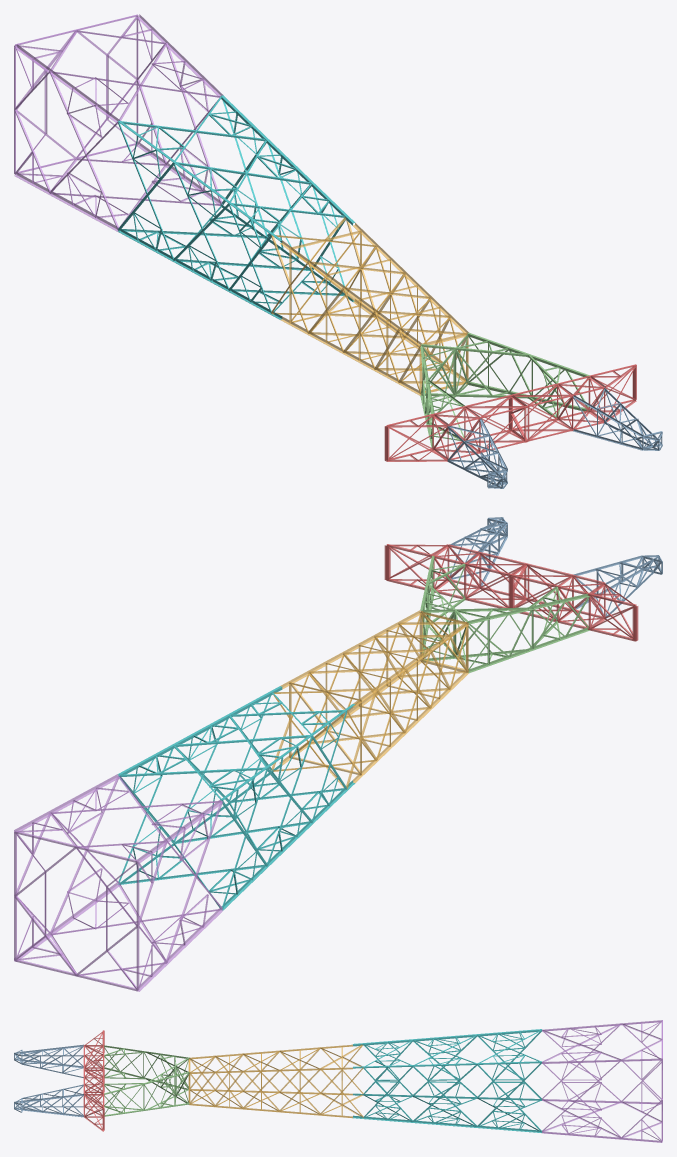
The model's file is tower-assembly-1-6-s1602.glb.
3 views of the same model, one above another, from view 1: azimuth 30°, elevation 25°; view 2: azimuth 150°, elevation 25°; view 3: azimuth 270°, elevation 25° (orthographic). The views are drawn at different scales.
Parts seen in each view (by area): view 1: M5-塔身5（112件原样 + 4件+500诊断头伸）, M6-塔身6（候选增量）, M4-塔身4（双场景审阅代理·S1短尾修正）, M2-塔头2（已撤销诊断占位）, M3-塔头3, M1-塔头1; view 2: M6-塔身6（候选增量）, M5-塔身5（112件原样 + 4件+500诊断头伸）, M4-塔身4（双场景审阅代理·S1短尾修正）, M2-塔头2（已撤销诊断占位）, M3-塔头3, M1-塔头1; view 3: M5-塔身5（112件原样 + 4件+500诊断头伸）, M6-塔身6（候选增量）, M4-塔身4（双场景审阅代理·S1短尾修正）, M3-塔头3, M1-塔头1, M2-塔头2（已撤销诊断占位）.
Part boxes in pixels (x1=…): M5-塔身5（112件原样 + 4件+500诊断头伸）: x1=118, y1=95, x2=355, y2=319; M6-塔身6（候选增量）: x1=14, y1=14, x2=223, y2=231; M4-塔身4（双场景审阅代理·S1短尾修正）: x1=271, y1=217, x2=468, y2=395; M2-塔头2（已撤销诊断占位）: x1=384, y1=364, x2=636, y2=461; M3-塔头3: x1=420, y1=332, x2=589, y2=447; M1-塔头1: x1=447, y1=387, x2=662, y2=488; M6-塔身6（候选增量）: x1=14, y1=774, x2=222, y2=991; M5-塔身5（112件原样 + 4件+500诊断头伸）: x1=117, y1=686, x2=355, y2=910; M4-塔身4（双场景审阅代理·S1短尾修正）: x1=271, y1=610, x2=468, y2=789; M2-塔头2（已撤销诊断占位）: x1=384, y1=544, x2=638, y2=641; M3-塔头3: x1=420, y1=555, x2=590, y2=673; M1-塔头1: x1=449, y1=517, x2=662, y2=618; M5-塔身5（112件原样 + 4件+500诊断头伸）: x1=353, y1=1029, x2=541, y2=1132; M6-塔身6（候选增量）: x1=542, y1=1020, x2=662, y2=1142; M4-塔身4（双场景审阅代理·S1短尾修正）: x1=188, y1=1044, x2=363, y2=1118; M3-塔头3: x1=104, y1=1045, x2=189, y2=1116; M1-塔头1: x1=14, y1=1044, x2=83, y2=1117; M2-塔头2（已撤销诊断占位）: x1=83, y1=1030, x2=104, y2=1131.
Bounding box in the file's own units: 8700 × 4330 × 30202.
